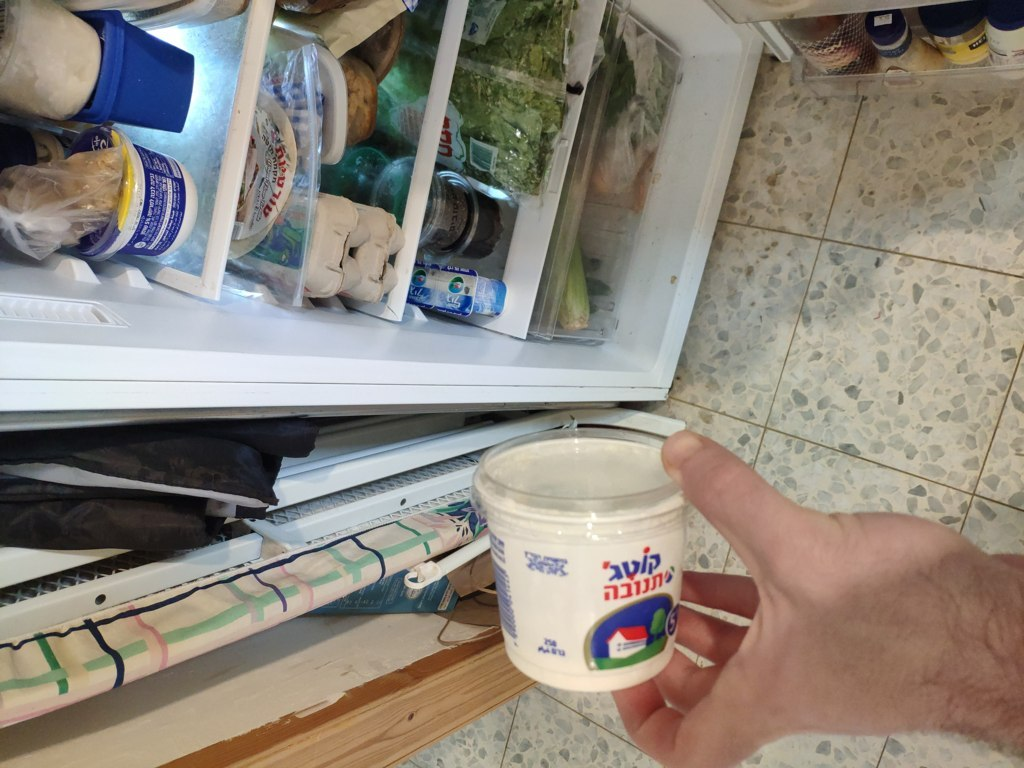Cotage: (474, 434, 700, 700)
